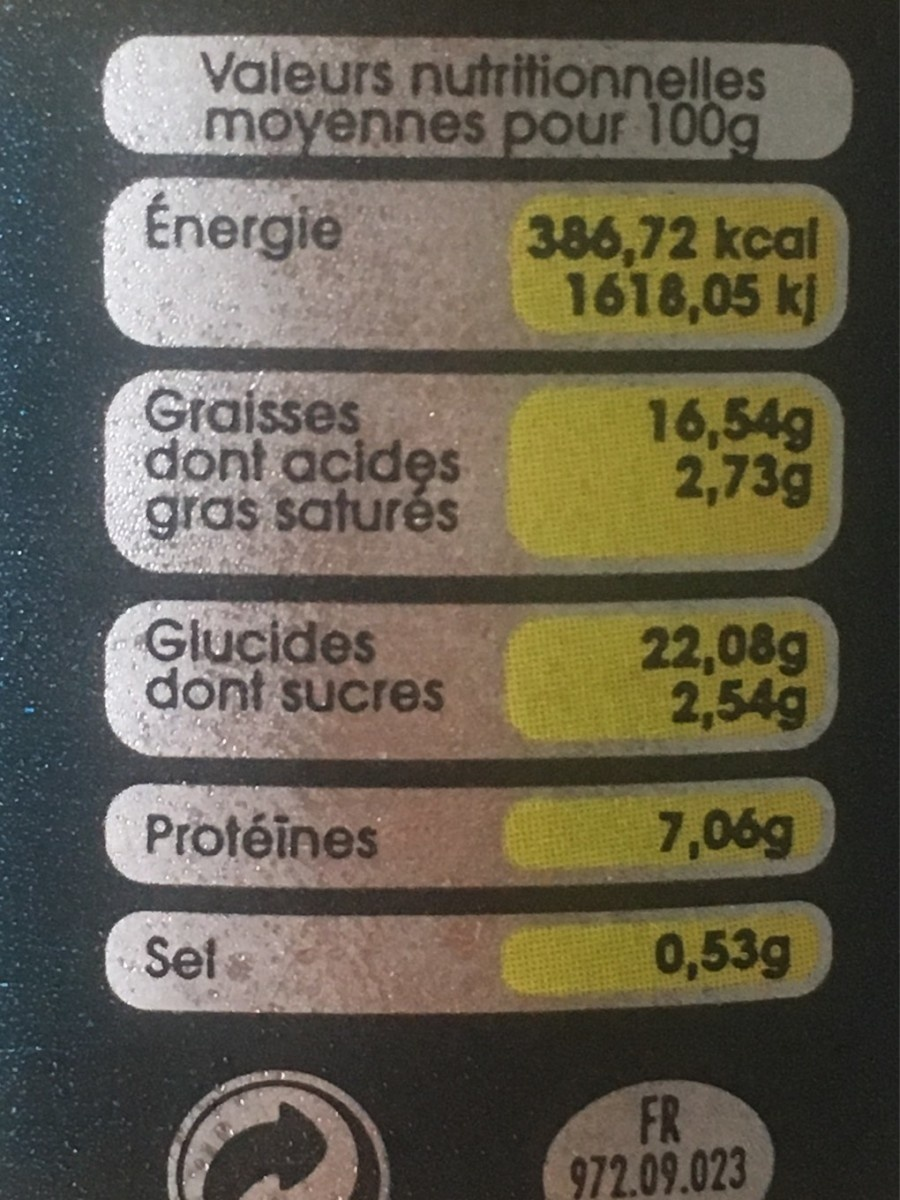column: (145, 190, 469, 988), (522, 190, 822, 992)
table: (102, 28, 840, 1021)
